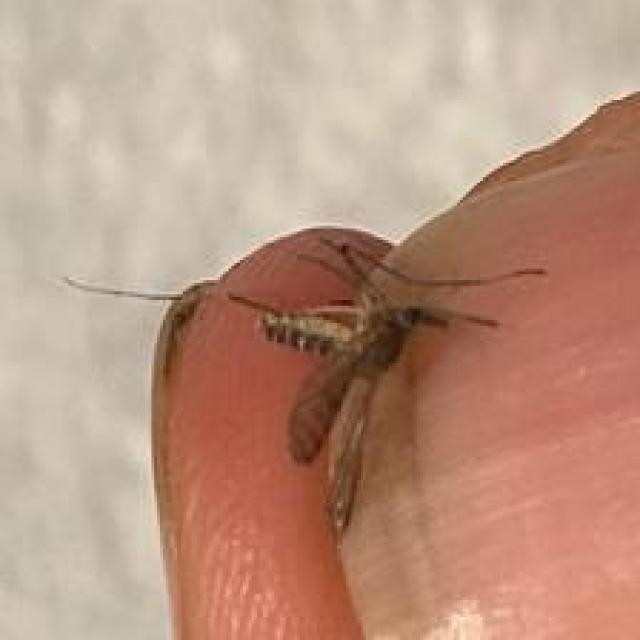Culex: (61, 83, 638, 640)
